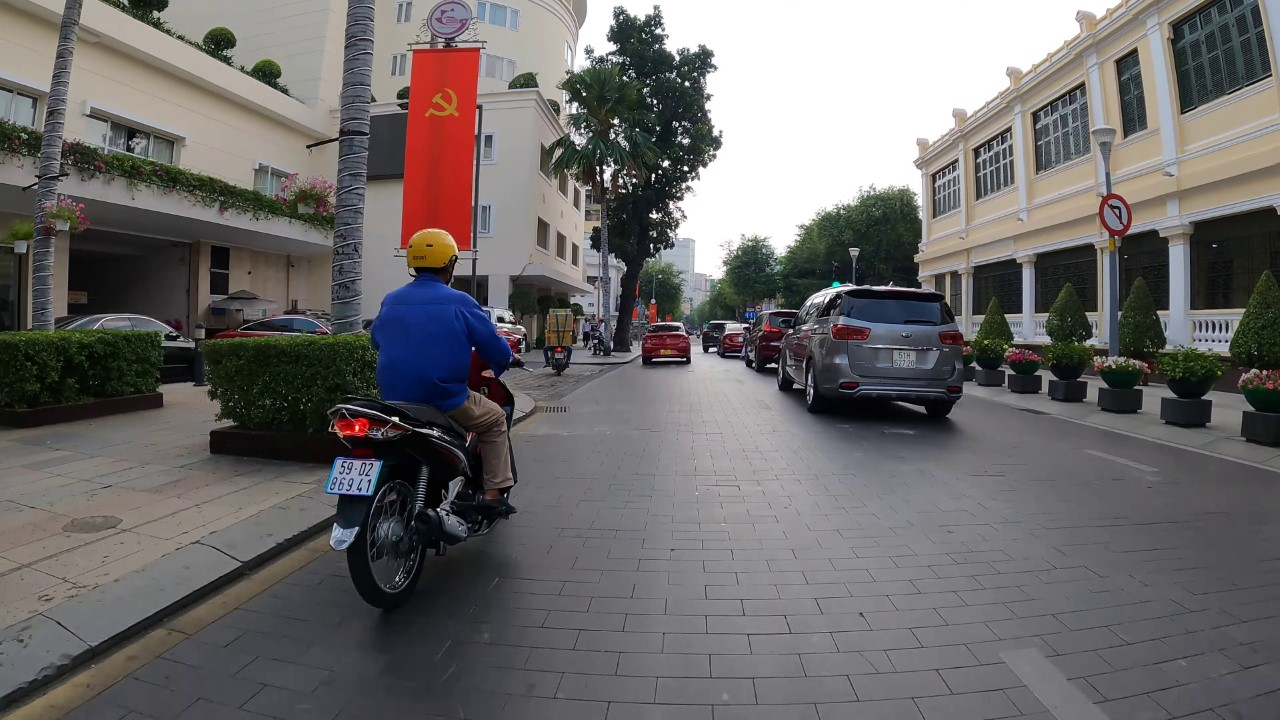cam_re_trai: (1096, 189, 1135, 237)
